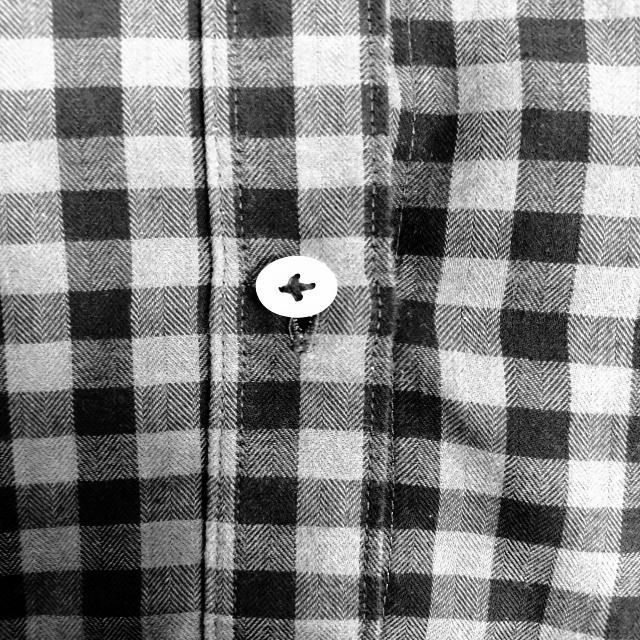Button_hike: (241, 251, 350, 344)
